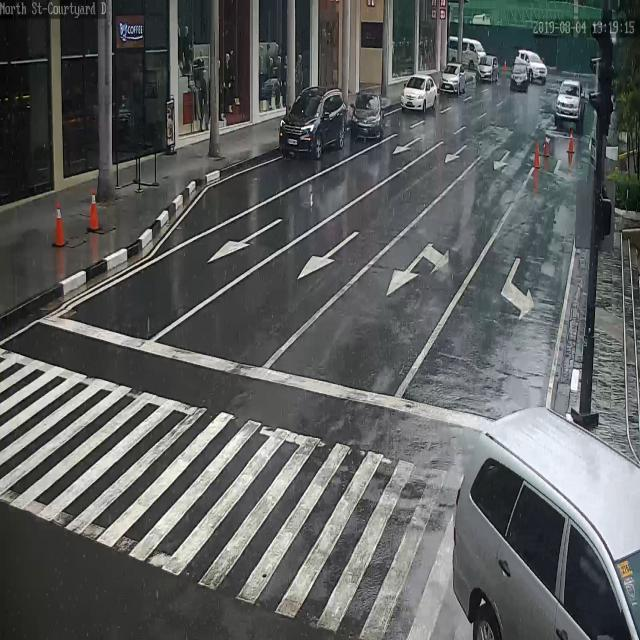car: (453, 410, 640, 640), (278, 85, 347, 157), (350, 91, 384, 141), (554, 78, 586, 126), (401, 73, 438, 110), (515, 50, 546, 82), (439, 62, 466, 94), (477, 55, 498, 83), (511, 62, 529, 93)
van: (449, 36, 487, 69)
